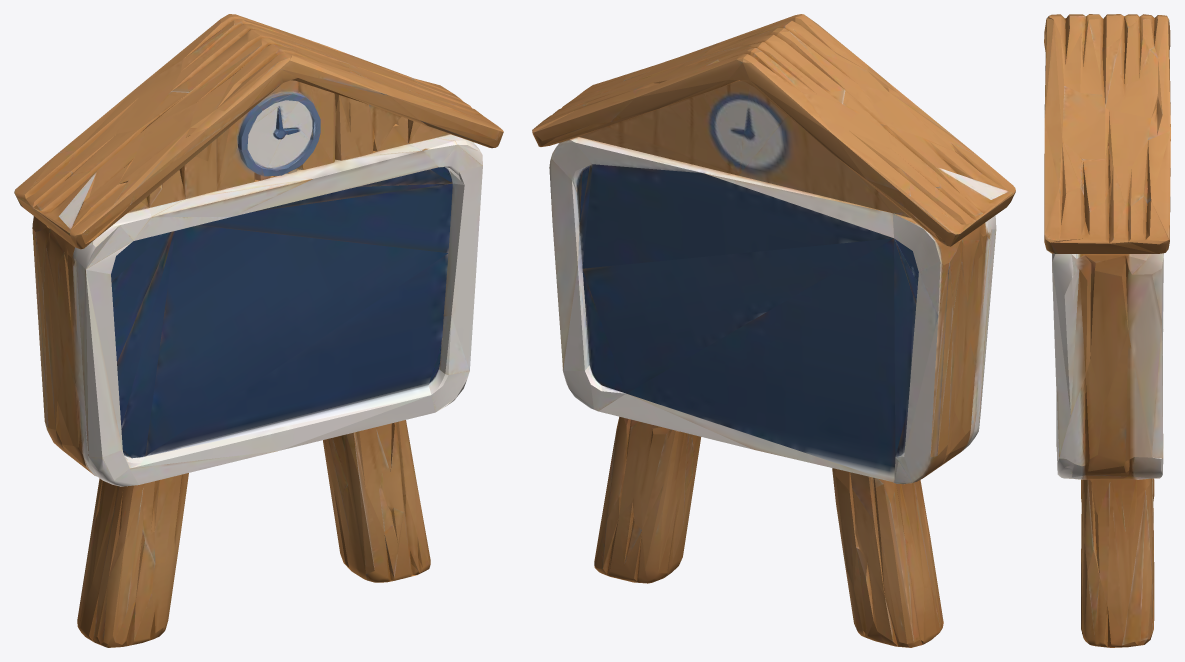
Rendered from scoreboard.glb.
3 views of the same model, side by side, from view 1: azimuth 30°, elevation 25°; view 2: azimuth 150°, elevation 25°; view 3: azimuth 270°, elevation 25° (orthographic). The views are drawn at different scales.
Size of the model in its own units: 1.51 by 1.9 by 0.394.
1 material, 1 textured.
